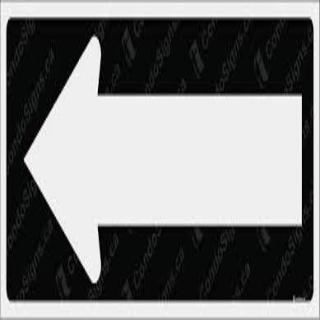sign_oneway_left: (12, 1, 318, 307)
